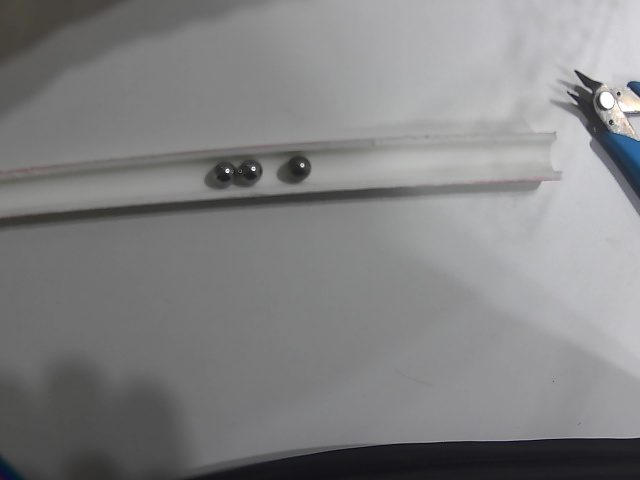steelball: (237, 161, 263, 186), (212, 162, 236, 185), (287, 156, 311, 179)
